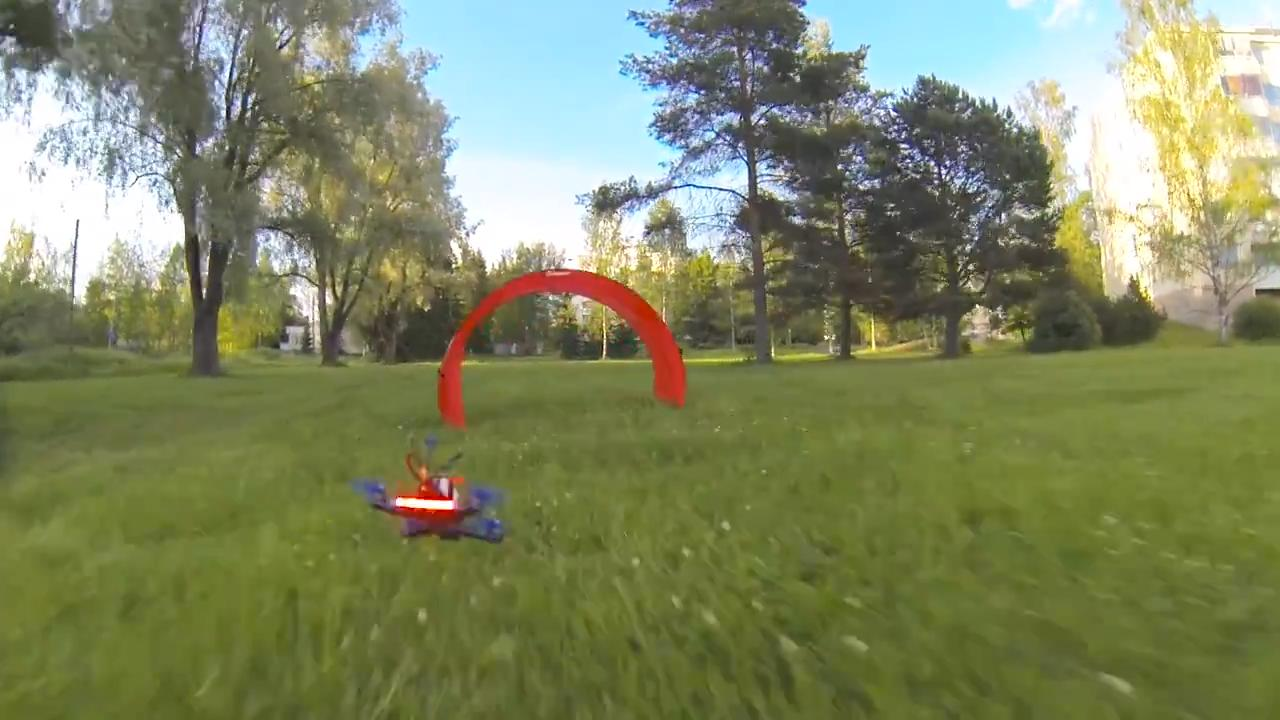gate: (440, 271, 695, 433)
